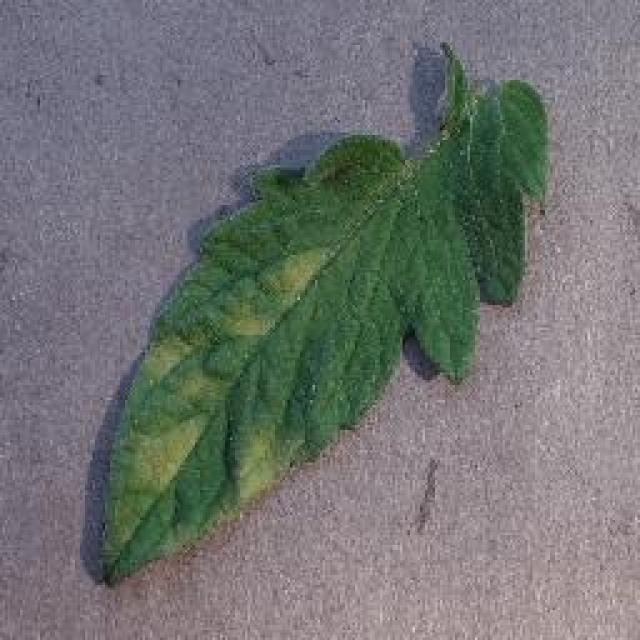Tomato___Leaf_Mold: (88, 45, 550, 590)
